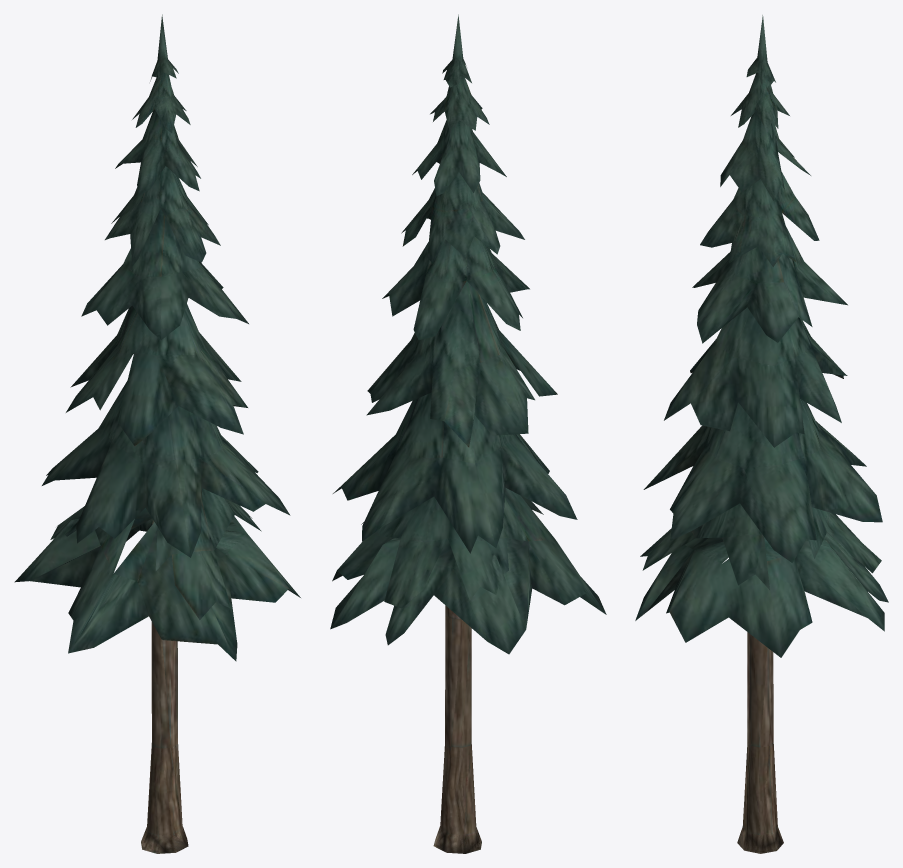
Rendered from tree-spruce-02.glb.
3 renders of one model, left to right at view 1: azimuth 30°, elevation 25°; view 2: azimuth 150°, elevation 25°; view 3: azimuth 270°, elevation 25°, orthographic.
Bounding box in the file's own units: 0.2861 × 0.9526 × 0.2646.
1 material, 1 textured.
